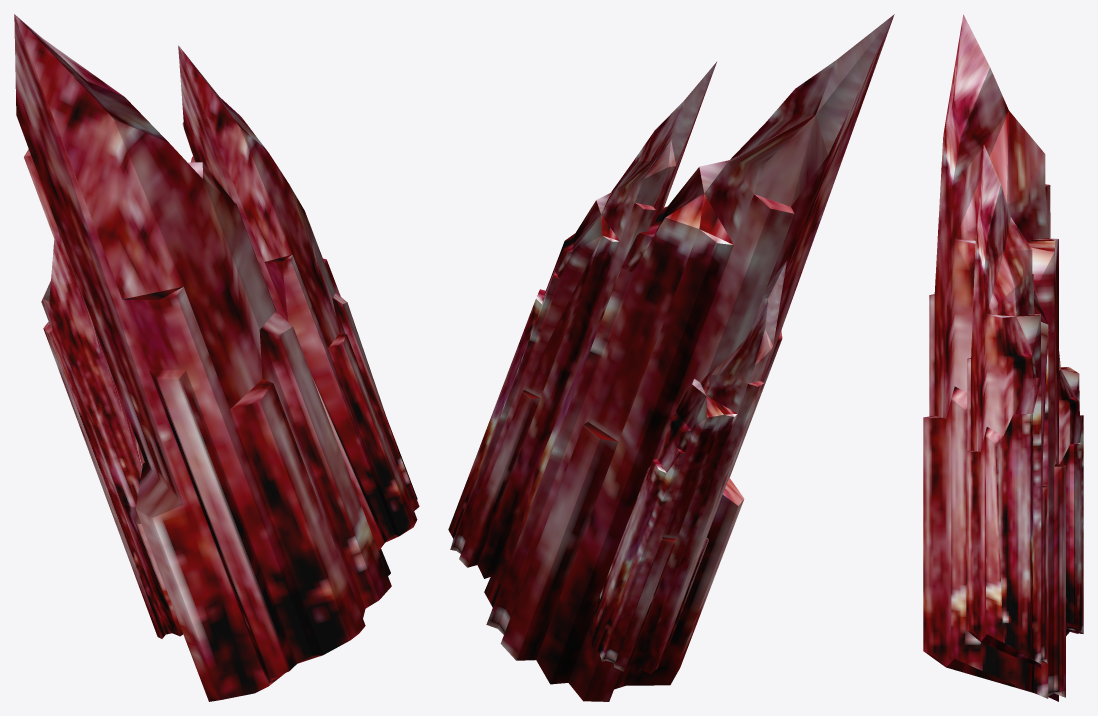
Rendered from nebula.ico.obj.
The picture shows the model from 3 angles, left to right: view 1: azimuth 30°, elevation 25°; view 2: azimuth 150°, elevation 25°; view 3: azimuth 270°, elevation 25°; orthographic projection. The views are drawn at different scales.
Size of the model in its own units: 2.81 by 4.69 by 1.17.
1 material, 1 textured.
